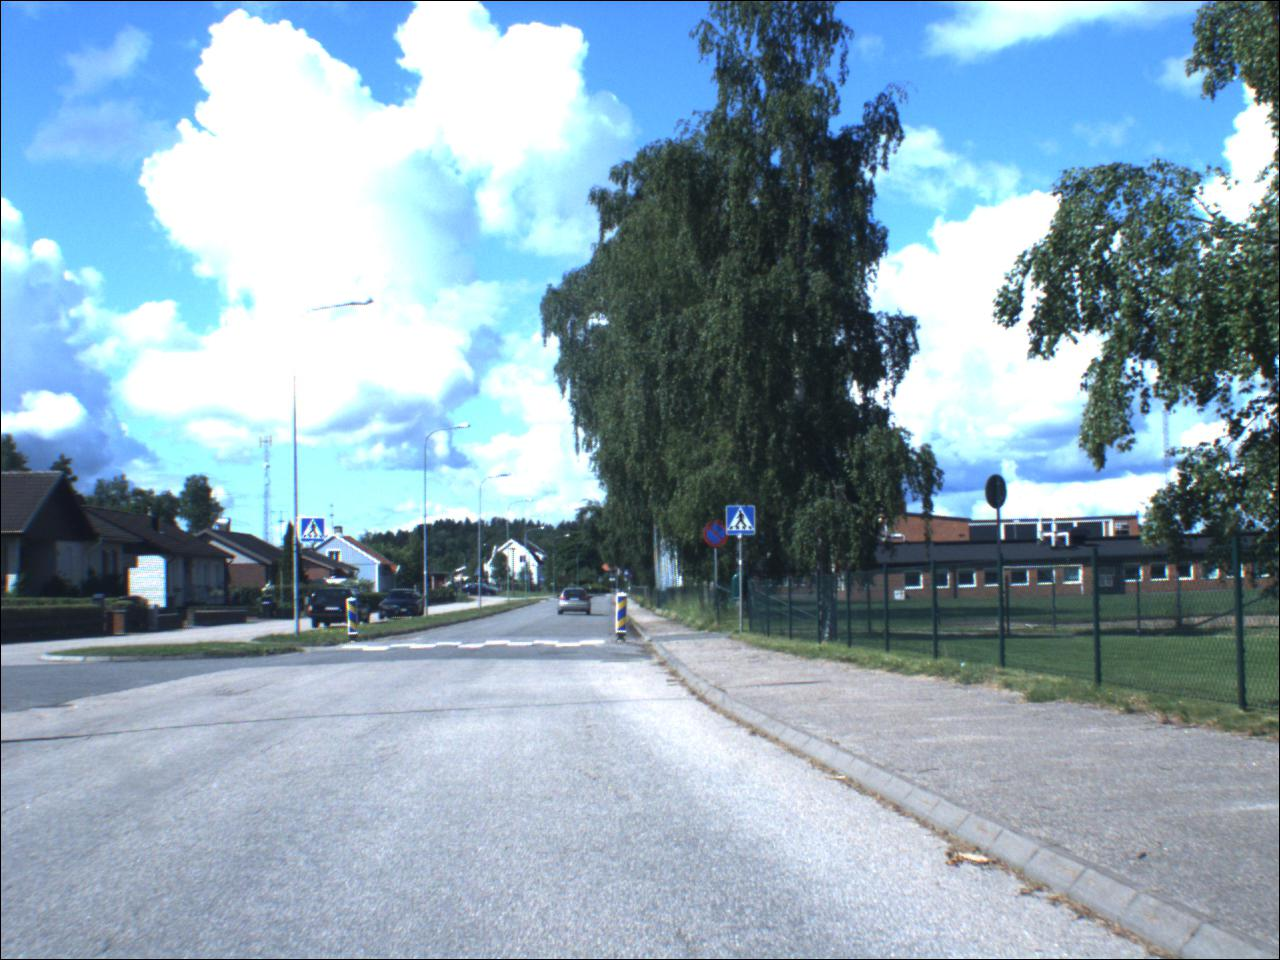NO_PARKING: (705, 522, 730, 550)
PEDESTRIAN_CROSSING: (727, 506, 758, 537), (303, 520, 327, 546)
